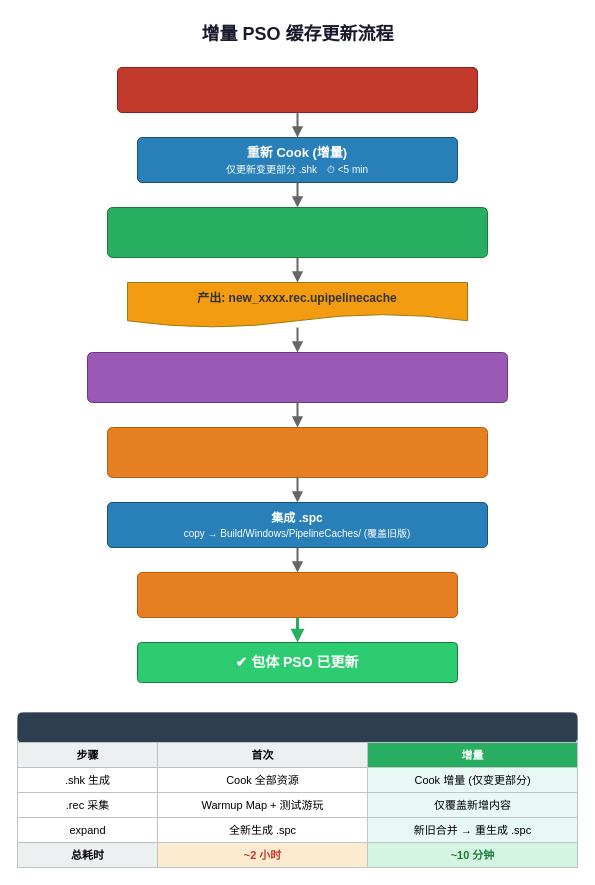
The diagram is 595 pixels wide and 885 high, and some of its shapes have lost their labels. The shapes that lost their labels are listed below. From the top down, each one's box as (x1, y1, x2, y2) in pixels, then its label:
(116, 66, 478, 112): 触发: 新增/修改材质、特效、关卡
(106, 206, 488, 258): 增量采集 .rec 新Material→各网格 | 新Niagara→播放 | 新关卡→跑一遍
(86, 352, 508, 402): 汇聚合并新旧 .rec 原有.rec (保留) + 新增.rec (追加) + 最新.shk (覆盖)
(106, 426, 488, 478): expand 合并转换 旧.rec + 新.rec + .shk → 新版.spc (自动去重) ⏱ <1 min
(136, 572, 458, 618): 重新打包 UAT BuildCookRun ⏱ 10~60 min
(17, 712, 577, 742): 首次 vs 增量 对比
